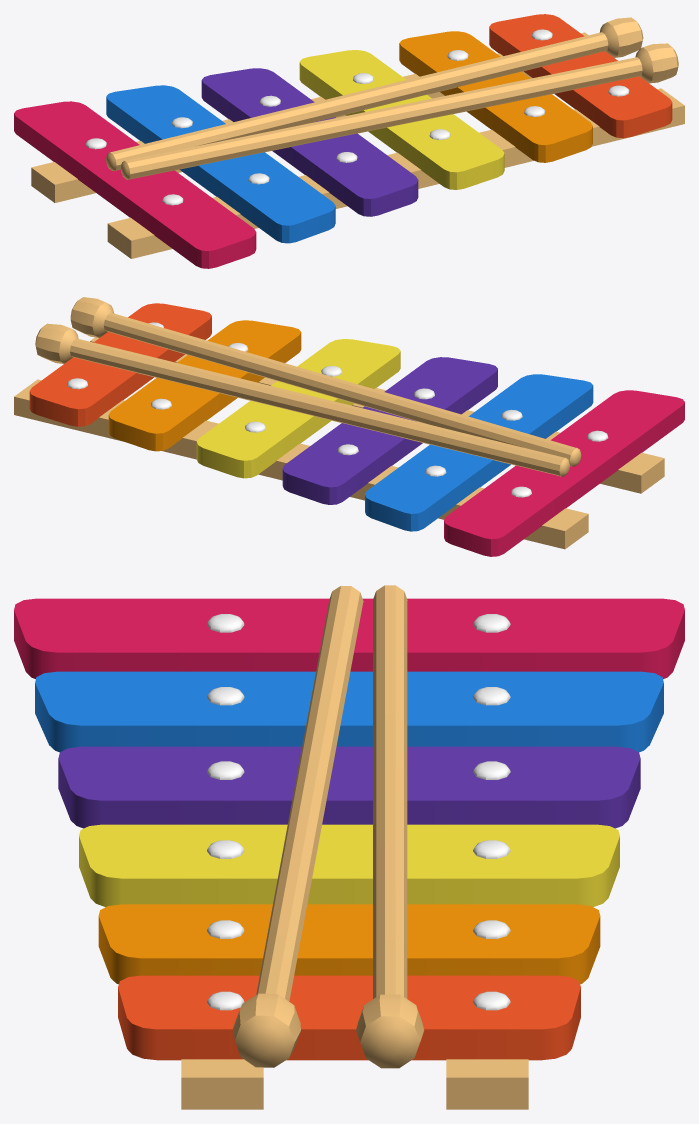
File: Xylophone.fbx
3 views of the same model, one above another, from view 1: azimuth 30°, elevation 25°; view 2: azimuth 150°, elevation 25°; view 3: azimuth 270°, elevation 25° (orthographic). The views are drawn at different scales.
Parts seen in each view (by area): view 1: Xylophone; view 2: Xylophone; view 3: Xylophone.
Boxes of the visible parts, left/top/right/bottom form: Xylophone: left=14, top=14, right=684, bottom=268; Xylophone: left=14, top=297, right=684, bottom=556; Xylophone: left=14, top=585, right=684, bottom=1109.
Size of the model in its own units: 30.26 by 3.09 by 17.82.
Materials: 1 (1 with a texture image).
